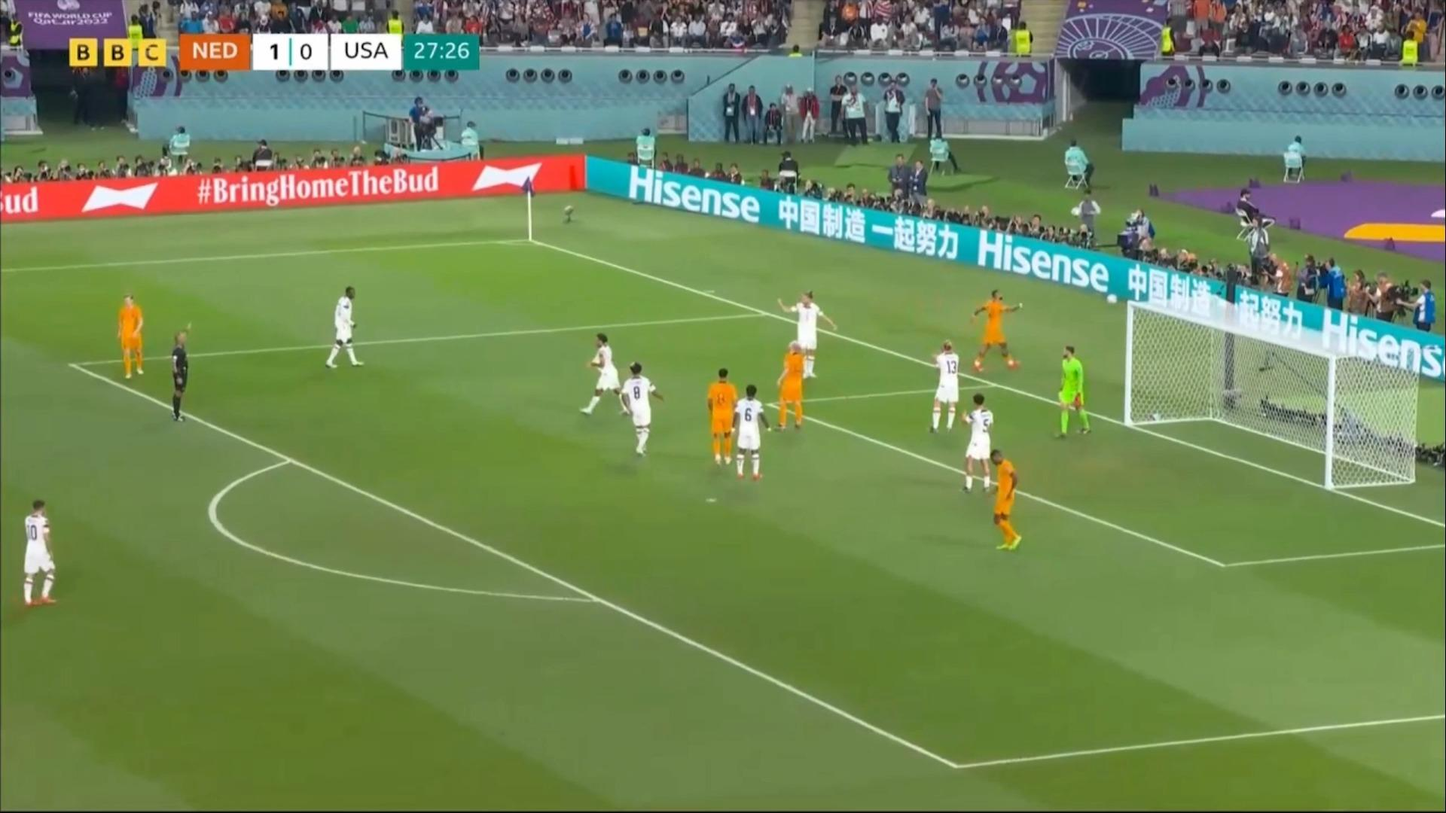Ball: (1104, 293, 1119, 306)
Player: (13, 495, 65, 610), (776, 288, 839, 380), (723, 386, 772, 487), (619, 361, 668, 459), (970, 287, 1025, 372), (576, 334, 627, 418), (703, 368, 739, 482), (987, 449, 1024, 554), (959, 392, 997, 493), (328, 284, 366, 377), (110, 292, 148, 382), (1057, 345, 1091, 439), (930, 338, 961, 436), (775, 343, 808, 435)
Ref: (167, 327, 193, 423)
